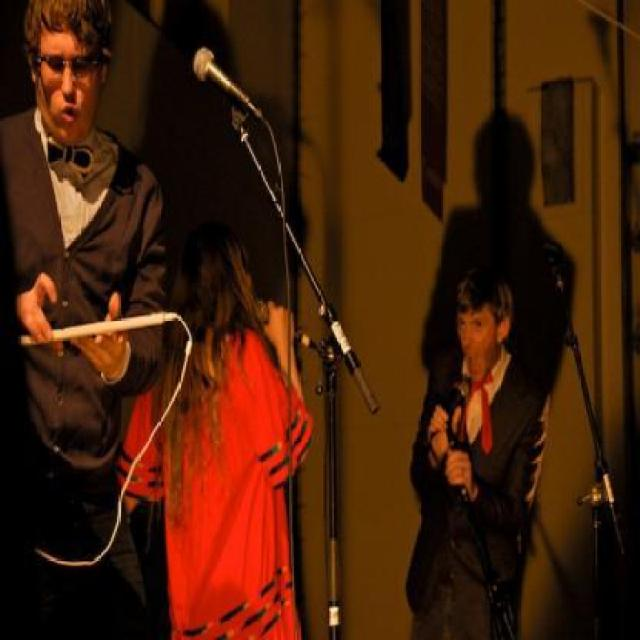Person: (0, 0, 180, 638), (105, 201, 328, 639), (400, 236, 542, 638)
